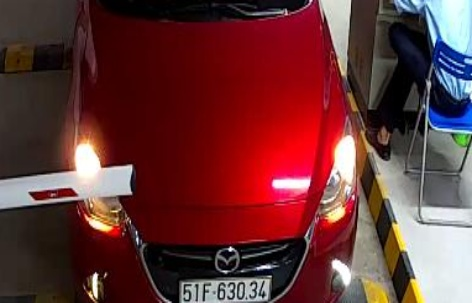plate: (177, 274, 270, 302)
